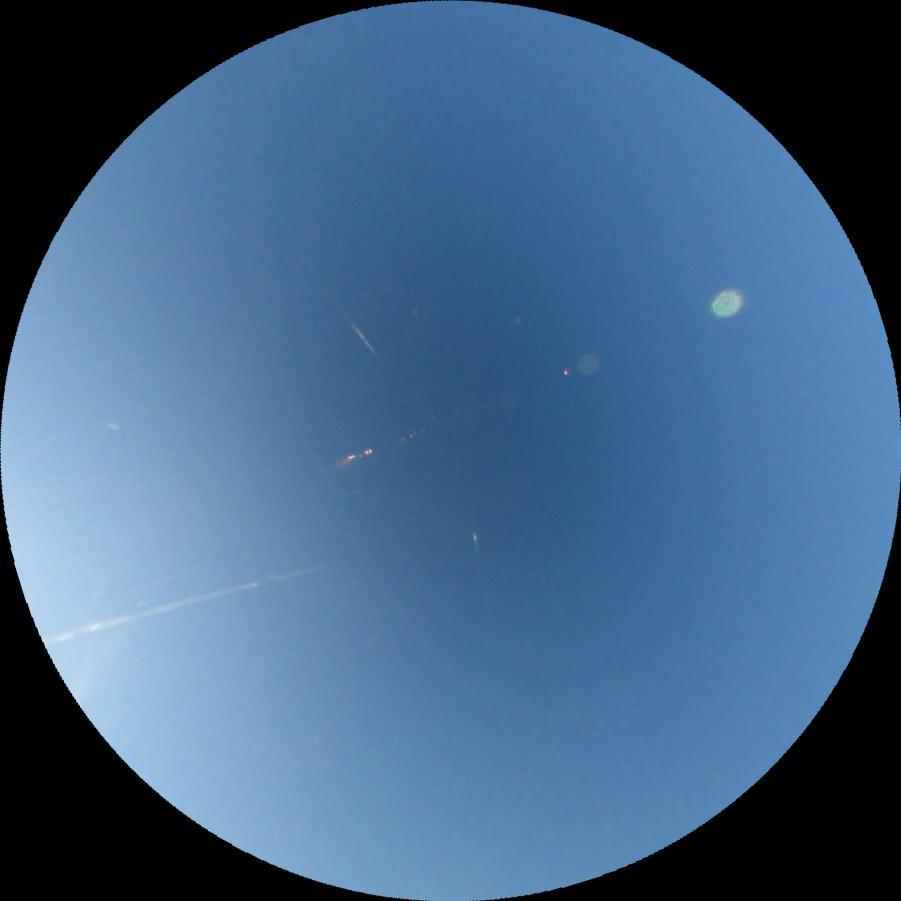parasite: (45, 559, 328, 647), (347, 317, 380, 358), (470, 527, 483, 562)
